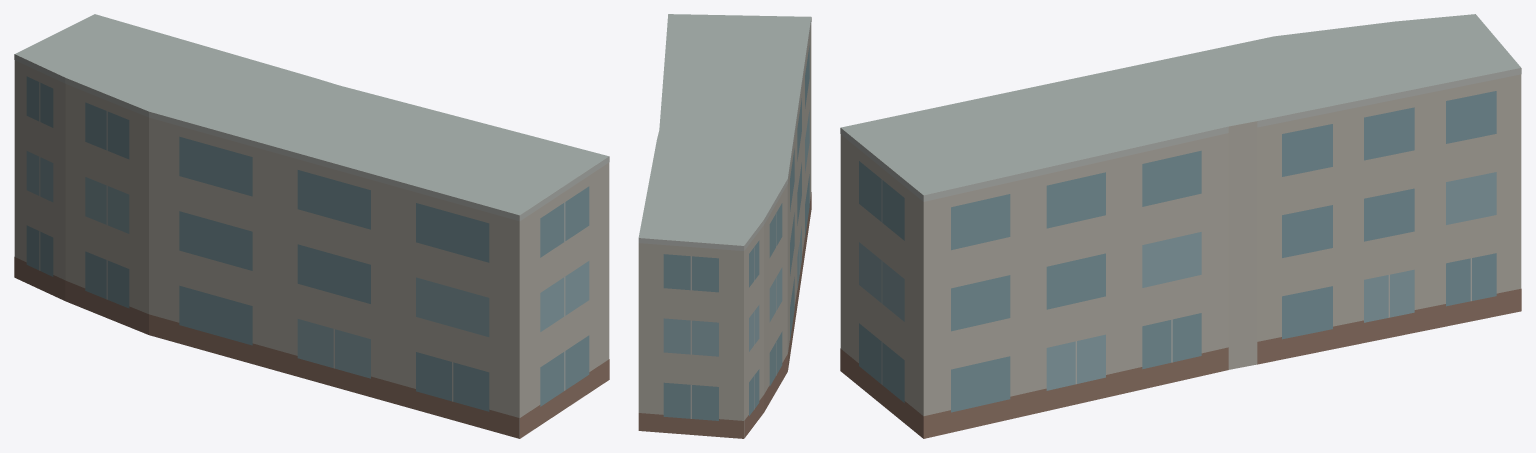
Rendered from survey-upis-32460053.glb.
3 views of the same model, side by side, from view 1: azimuth 30°, elevation 25°; view 2: azimuth 150°, elevation 25°; view 3: azimuth 270°, elevation 25° (orthographic). The views are drawn at different scales.
Parts seen in each view (by area): view 1: survey-upis-32460053.tmp; view 2: survey-upis-32460053.tmp; view 3: survey-upis-32460053.tmp.
Part boxes in pixels (bbox=[...]): survey-upis-32460053.tmp: bbox=[14, 14, 609, 438]; survey-upis-32460053.tmp: bbox=[638, 14, 811, 438]; survey-upis-32460053.tmp: bbox=[840, 14, 1521, 438].
Bounding box in the file's own units: 14.64 × 9.15 × 23.21.
